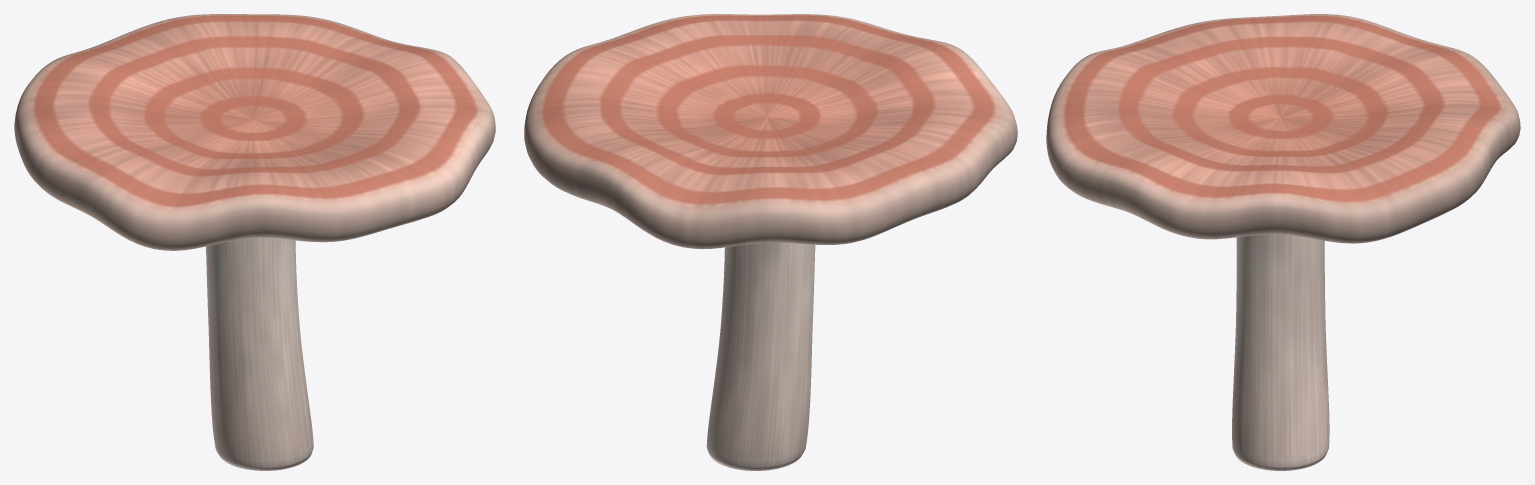
File: lactarius-torminosus-drawn.glb
3 renders of one model, left to right at view 1: azimuth 30°, elevation 25°; view 2: azimuth 150°, elevation 25°; view 3: azimuth 270°, elevation 25°, orthographic. The views are drawn at different scales.
Size of the model in its own units: 0.8159 by 0.67 by 0.8276.
1 material, 1 textured.
